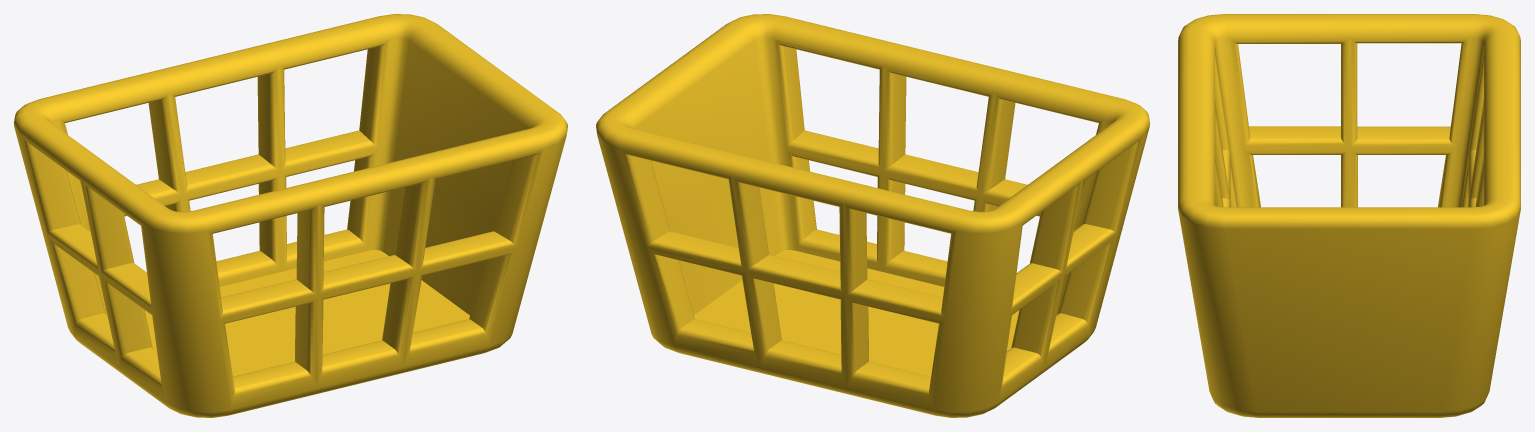
File: basket.fbx
3 renders of one model, left to right at view 1: azimuth 30°, elevation 25°; view 2: azimuth 150°, elevation 25°; view 3: azimuth 270°, elevation 25°, orthographic.
Parts seen in each view (by area): view 1: Cube; view 2: Cube; view 3: Cube.
Part boxes in pixels (left/top/right/bottom): Cube: left=14, top=14, right=567, bottom=417; Cube: left=596, top=14, right=1149, bottom=417; Cube: left=1178, top=14, right=1520, bottom=417.
Size of the model in its own units: 1.29 by 0.6496 by 0.9001.
